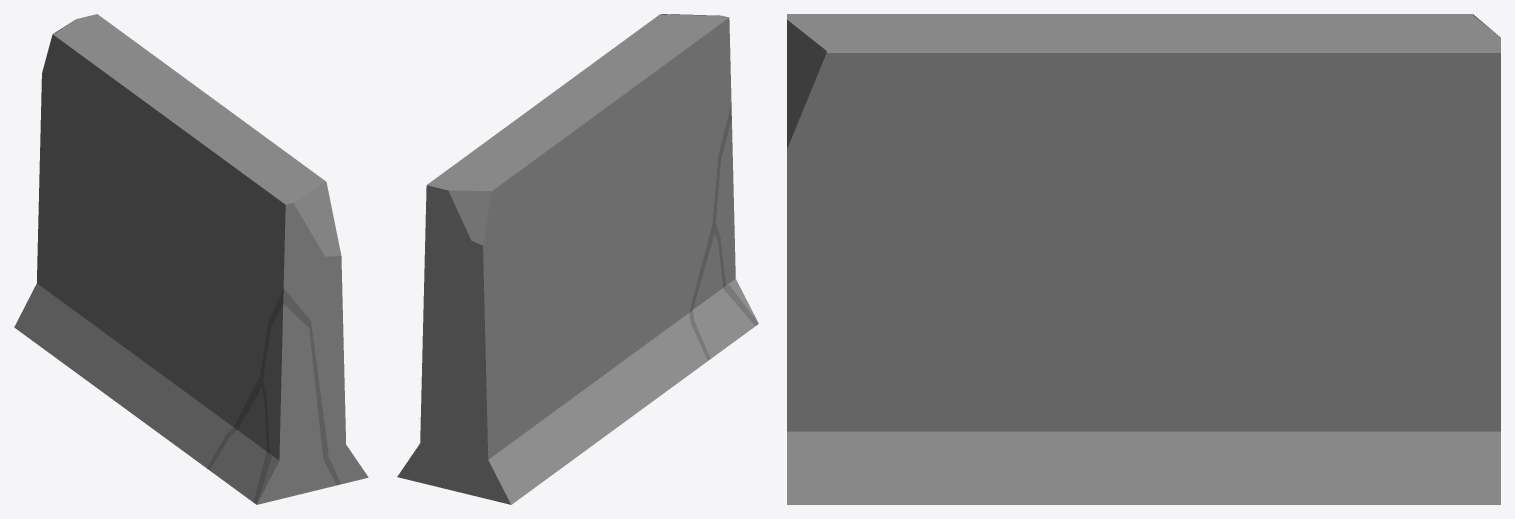
File: RoadPart_06.glb
3 renders of one model, left to right at view 1: azimuth 30°, elevation 25°; view 2: azimuth 150°, elevation 25°; view 3: azimuth 270°, elevation 25°, orthographic. The views are drawn at different scales.
Visible parts, largest first — view 1: RoadPart_06; view 2: RoadPart_06; view 3: RoadPart_06.
Part boxes in pixels (bbox=[...]): RoadPart_06: bbox=[14, 14, 368, 504]; RoadPart_06: bbox=[397, 14, 758, 504]; RoadPart_06: bbox=[787, 14, 1500, 504].
Bounding box in the file's own units: 0.4 × 1 × 1.5.
Materials: 1 (1 with a texture image).
